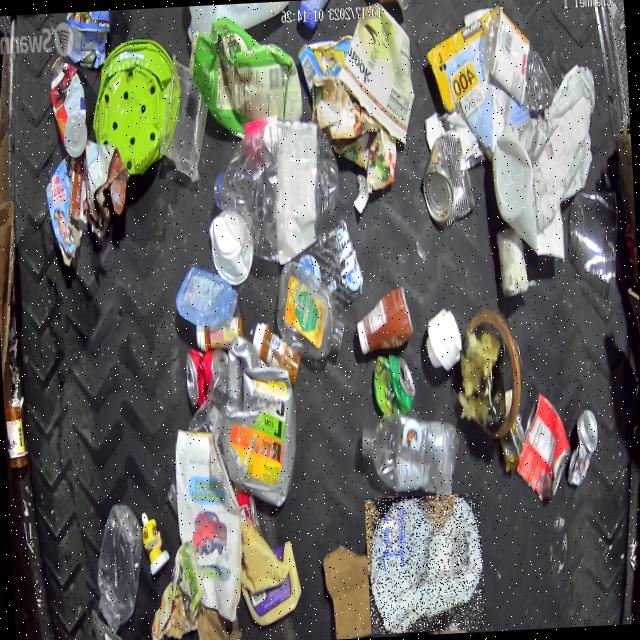milk-jug: (364, 493, 486, 635)
